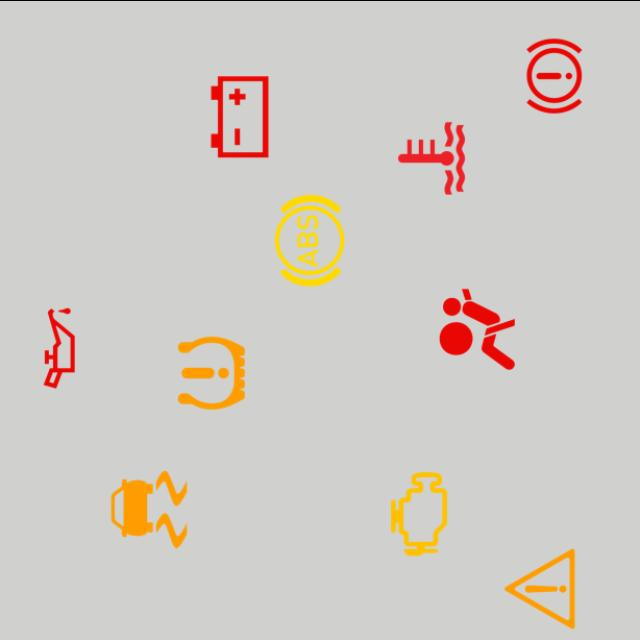Anti Lock Braking System: (260, 190, 360, 290)
Braking System Issue: (504, 25, 604, 125)
Charging System Issue: (190, 66, 290, 166)
Check Engine: (369, 463, 469, 563)
Electronic Stability Problem -ESP-: (99, 458, 199, 558)
Engine Overheating Warning Light: (382, 108, 482, 208)
Low Engine Oil Warning Light: (10, 297, 110, 397)
Low Tire Pressure Warning Light: (162, 322, 262, 422)
Master warning light: (490, 538, 590, 638)
SRS-Airbag: (428, 278, 528, 378)
